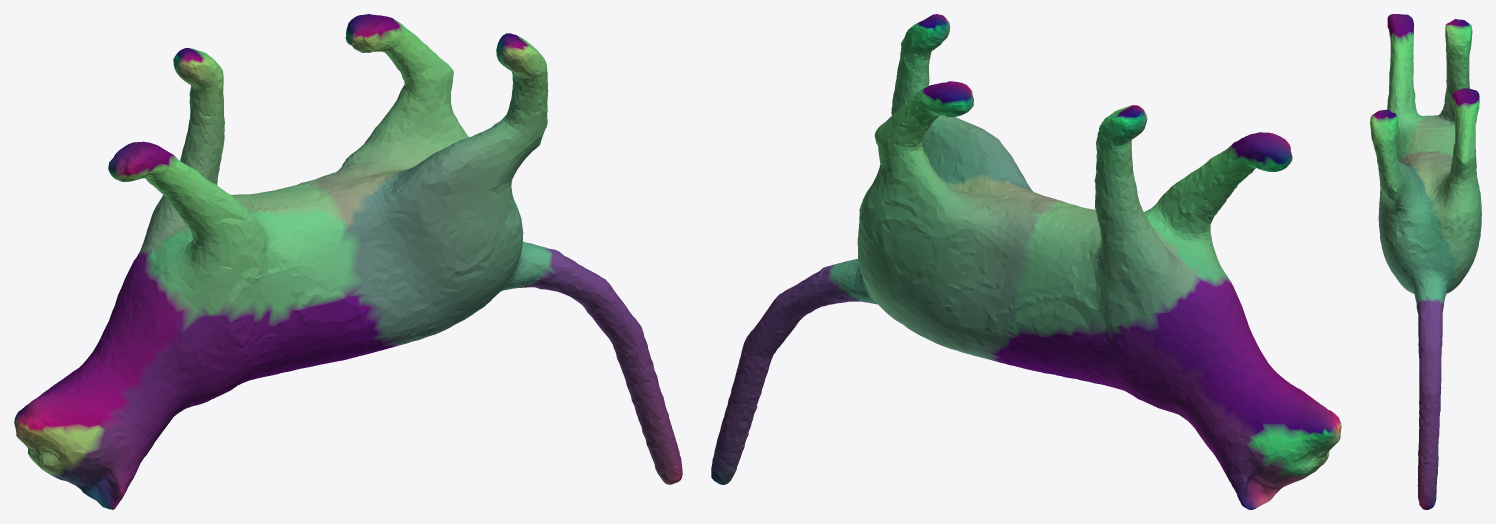
File: cat-10.off.obj
3 renders of one model, left to right at view 1: azimuth 30°, elevation 25°; view 2: azimuth 150°, elevation 25°; view 3: azimuth 270°, elevation 25°, orthographic. The views are drawn at different scales.
Size of the model in its own units: 1.31 by 0.9949 by 0.2936.
